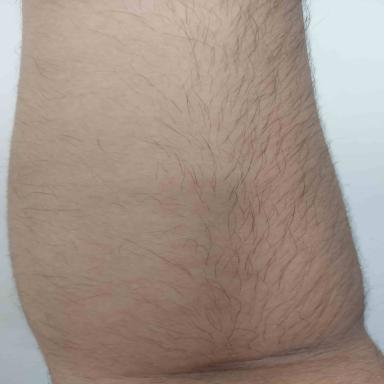normal skin: (9, 0, 383, 384)
